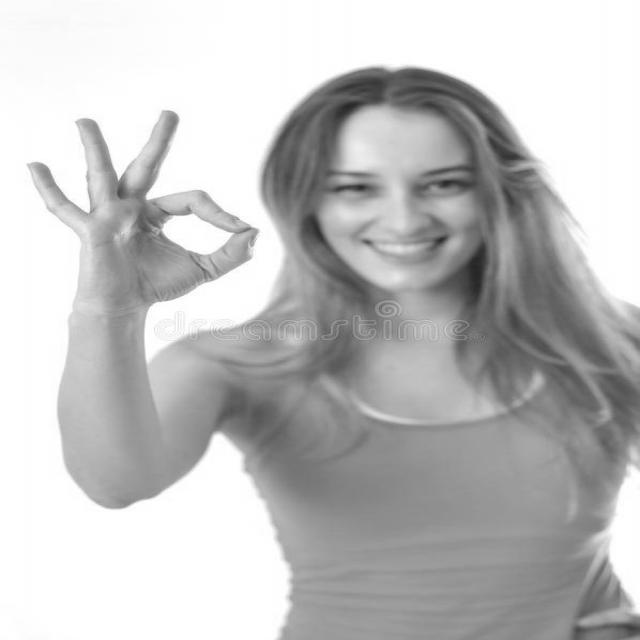perfect: (16, 100, 265, 322)
